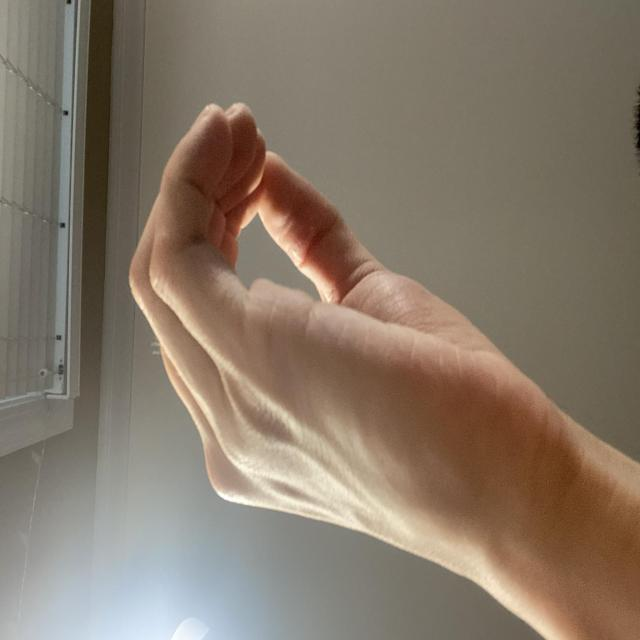O: (52, 164, 410, 640)
